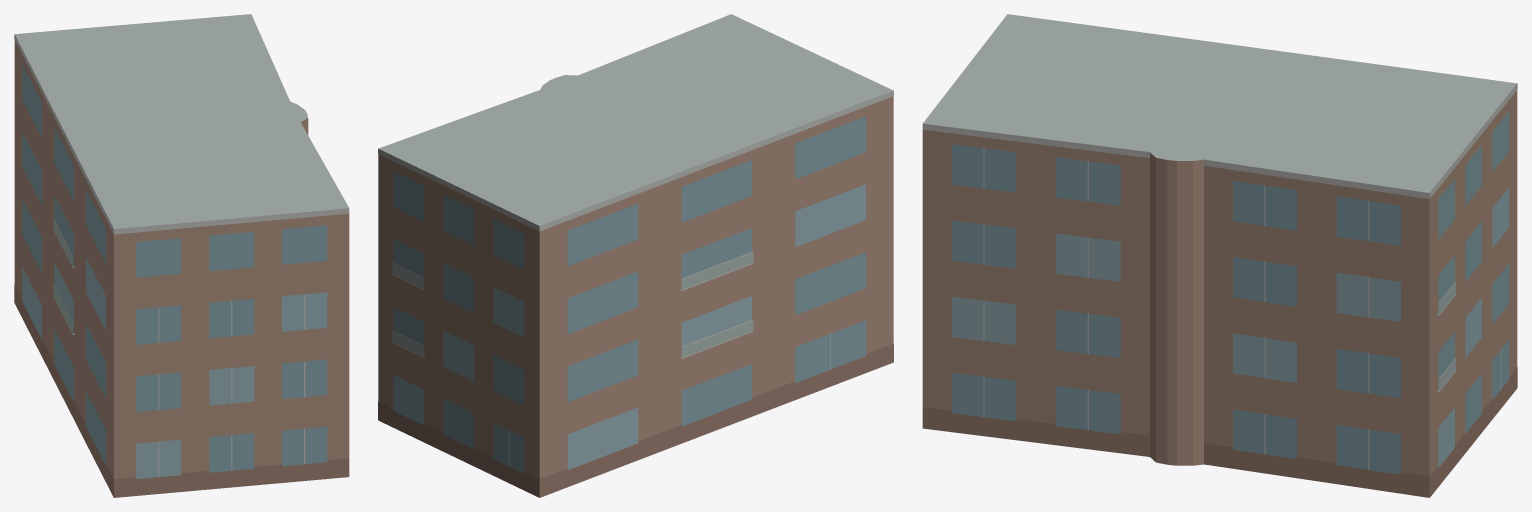
Rendered from survey-upis-33009682.glb.
3 renders of one model, left to right at view 1: azimuth 30°, elevation 25°; view 2: azimuth 150°, elevation 25°; view 3: azimuth 270°, elevation 25°, orthographic. The views are drawn at different scales.
Parts seen in each view (by area): view 1: survey-upis-33009682.tmp; view 2: survey-upis-33009682.tmp; view 3: survey-upis-33009682.tmp.
Boxes of the visible parts, box(x1,y1,x2,y2) form: survey-upis-33009682.tmp: box(14, 14, 349, 497); survey-upis-33009682.tmp: box(378, 14, 893, 497); survey-upis-33009682.tmp: box(922, 14, 1517, 497).
Bounding box in the file's own units: 15.38 × 12.2 × 21.59.
